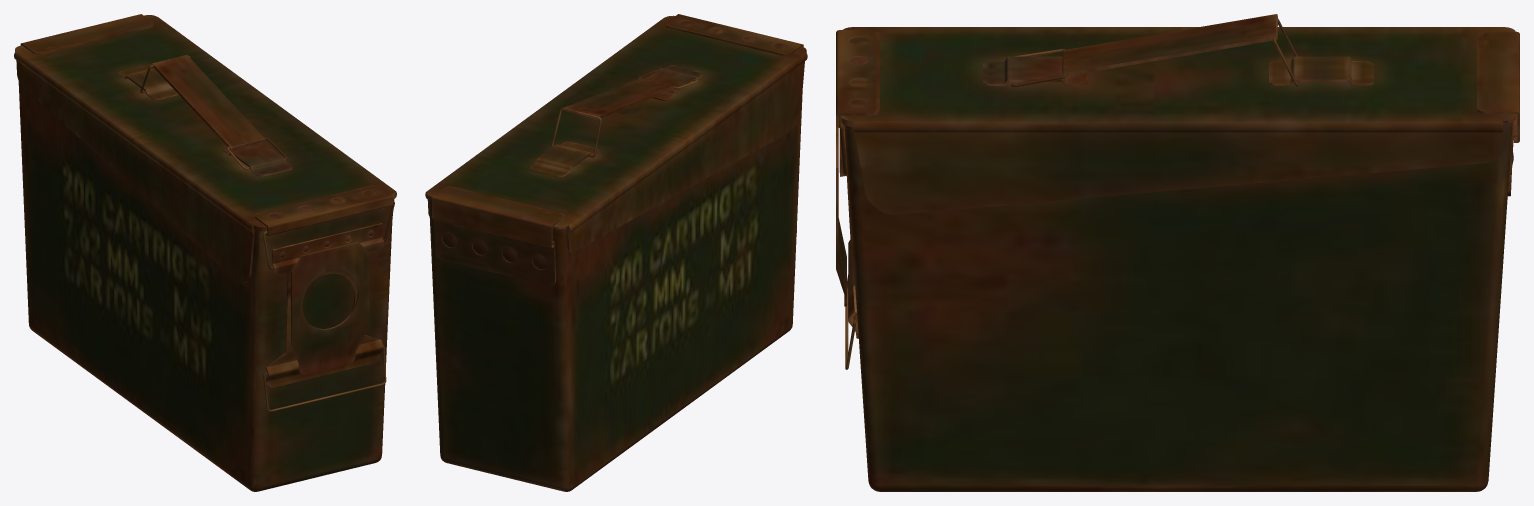
3 views of the same model, side by side, from view 1: azimuth 30°, elevation 25°; view 2: azimuth 150°, elevation 25°; view 3: azimuth 270°, elevation 25° (orthographic). The views are drawn at different scales.
Parts seen in each view (by area): view 1: ammo_box, ammo_box_handle, ammo_box_latch; view 2: ammo_box, ammo_box_handle; view 3: ammo_box, ammo_box_handle.
Part boxes in pixels (x1,y1,x2,y2): ammo_box: [14, 14, 396, 491]; ammo_box_handle: [152, 54, 265, 149]; ammo_box_latch: [263, 345, 386, 411]; ammo_box: [425, 14, 807, 491]; ammo_box_handle: [563, 78, 675, 119]; ammo_box: [836, 27, 1519, 491]; ammo_box_handle: [1062, 14, 1277, 76].
Bounding box in the file's own units: 0.0866 × 0.1775 × 0.2579.
Materials: 1 (1 with a texture image).
